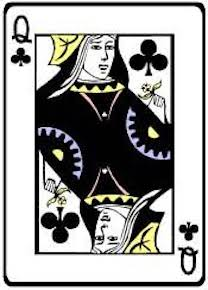QueenOfClubs: (3, 1, 208, 286)
